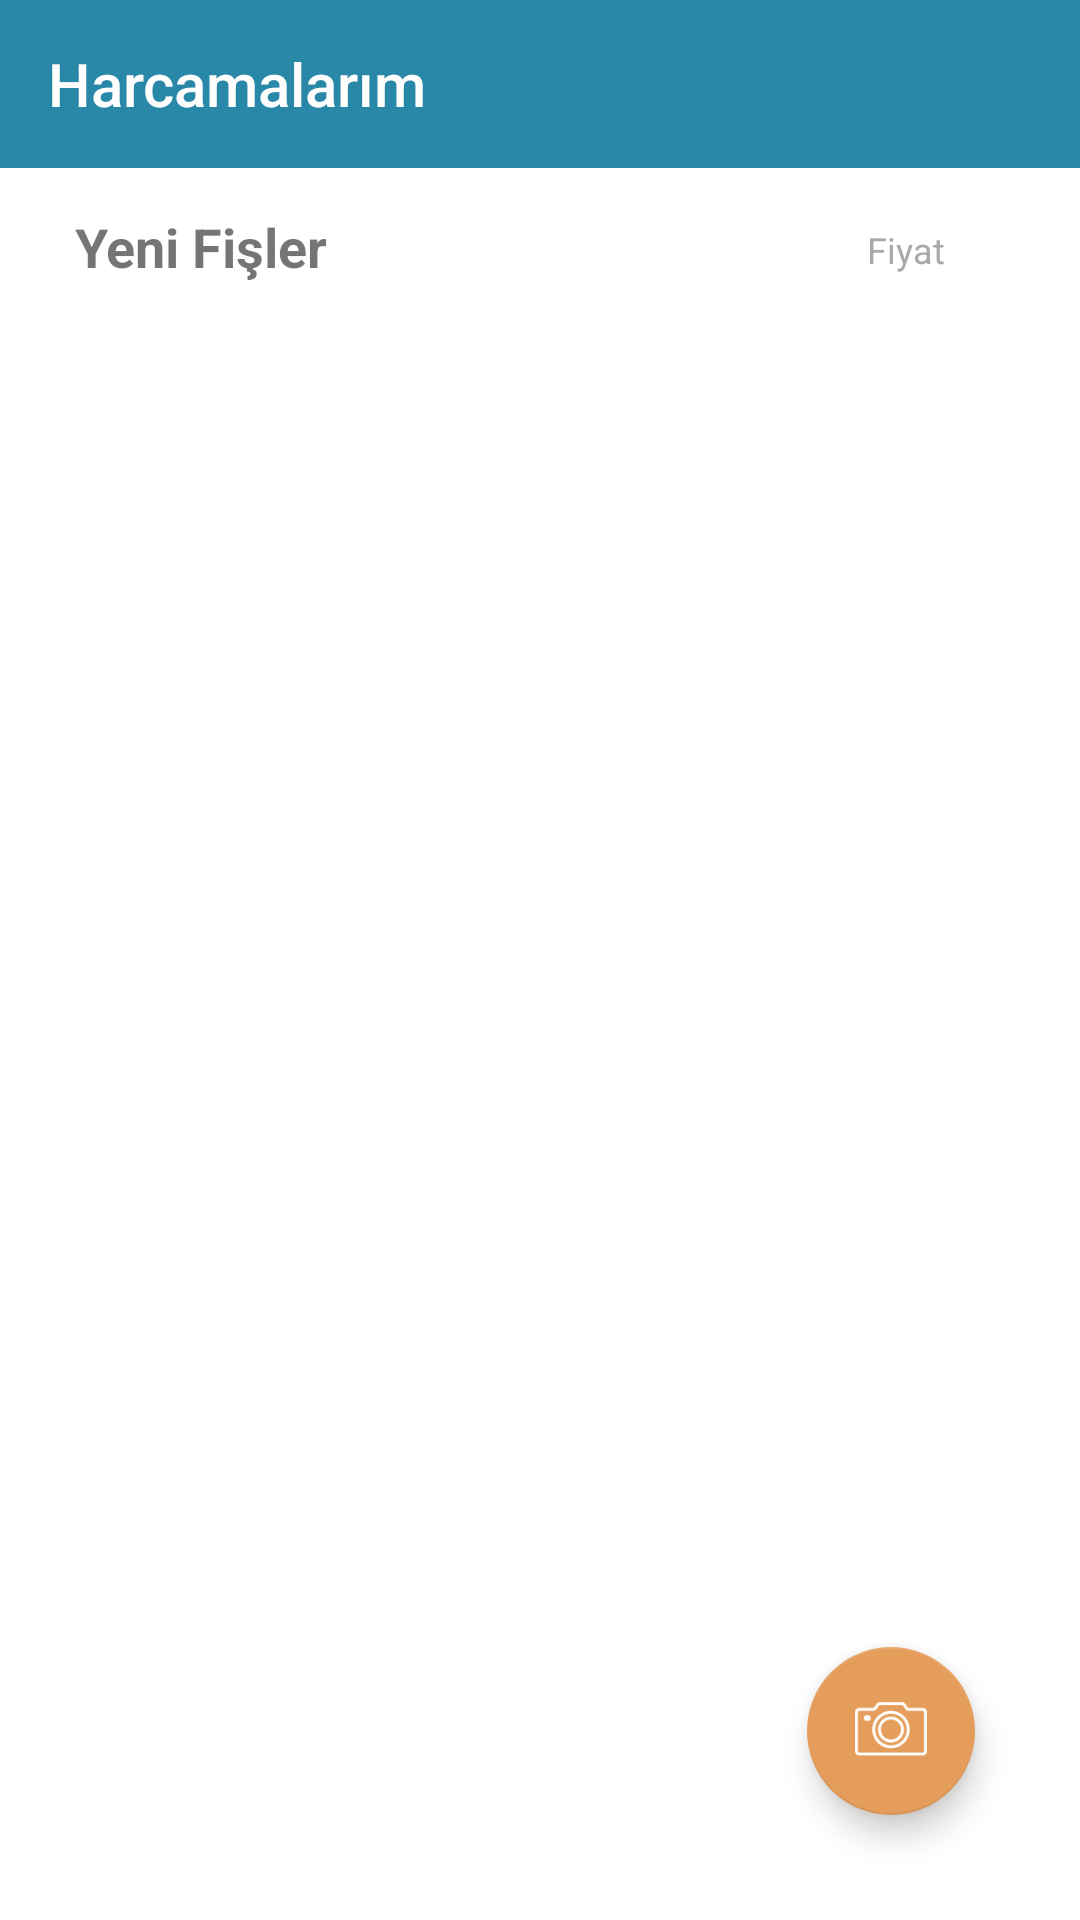

Icons on this 1080w x 1920h Android screen, each with its box as (x1, y1, x2, y2):
iconcamera: (807, 1647, 975, 1815)
